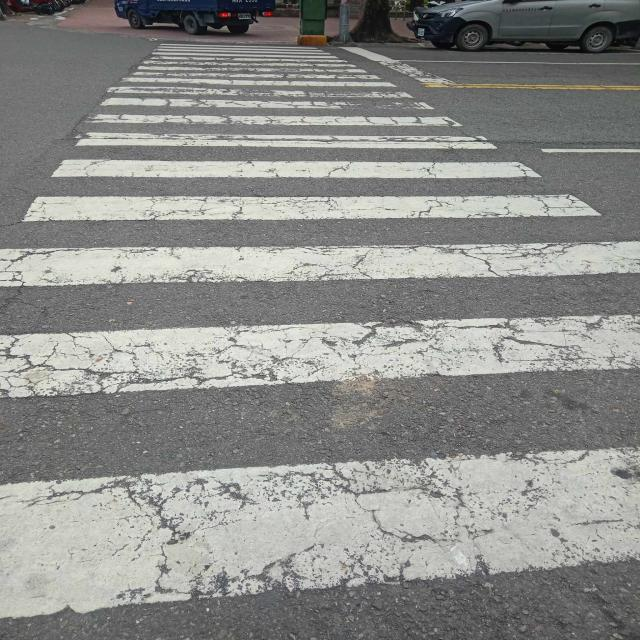zebra_crossing: (485, 221, 640, 262)
